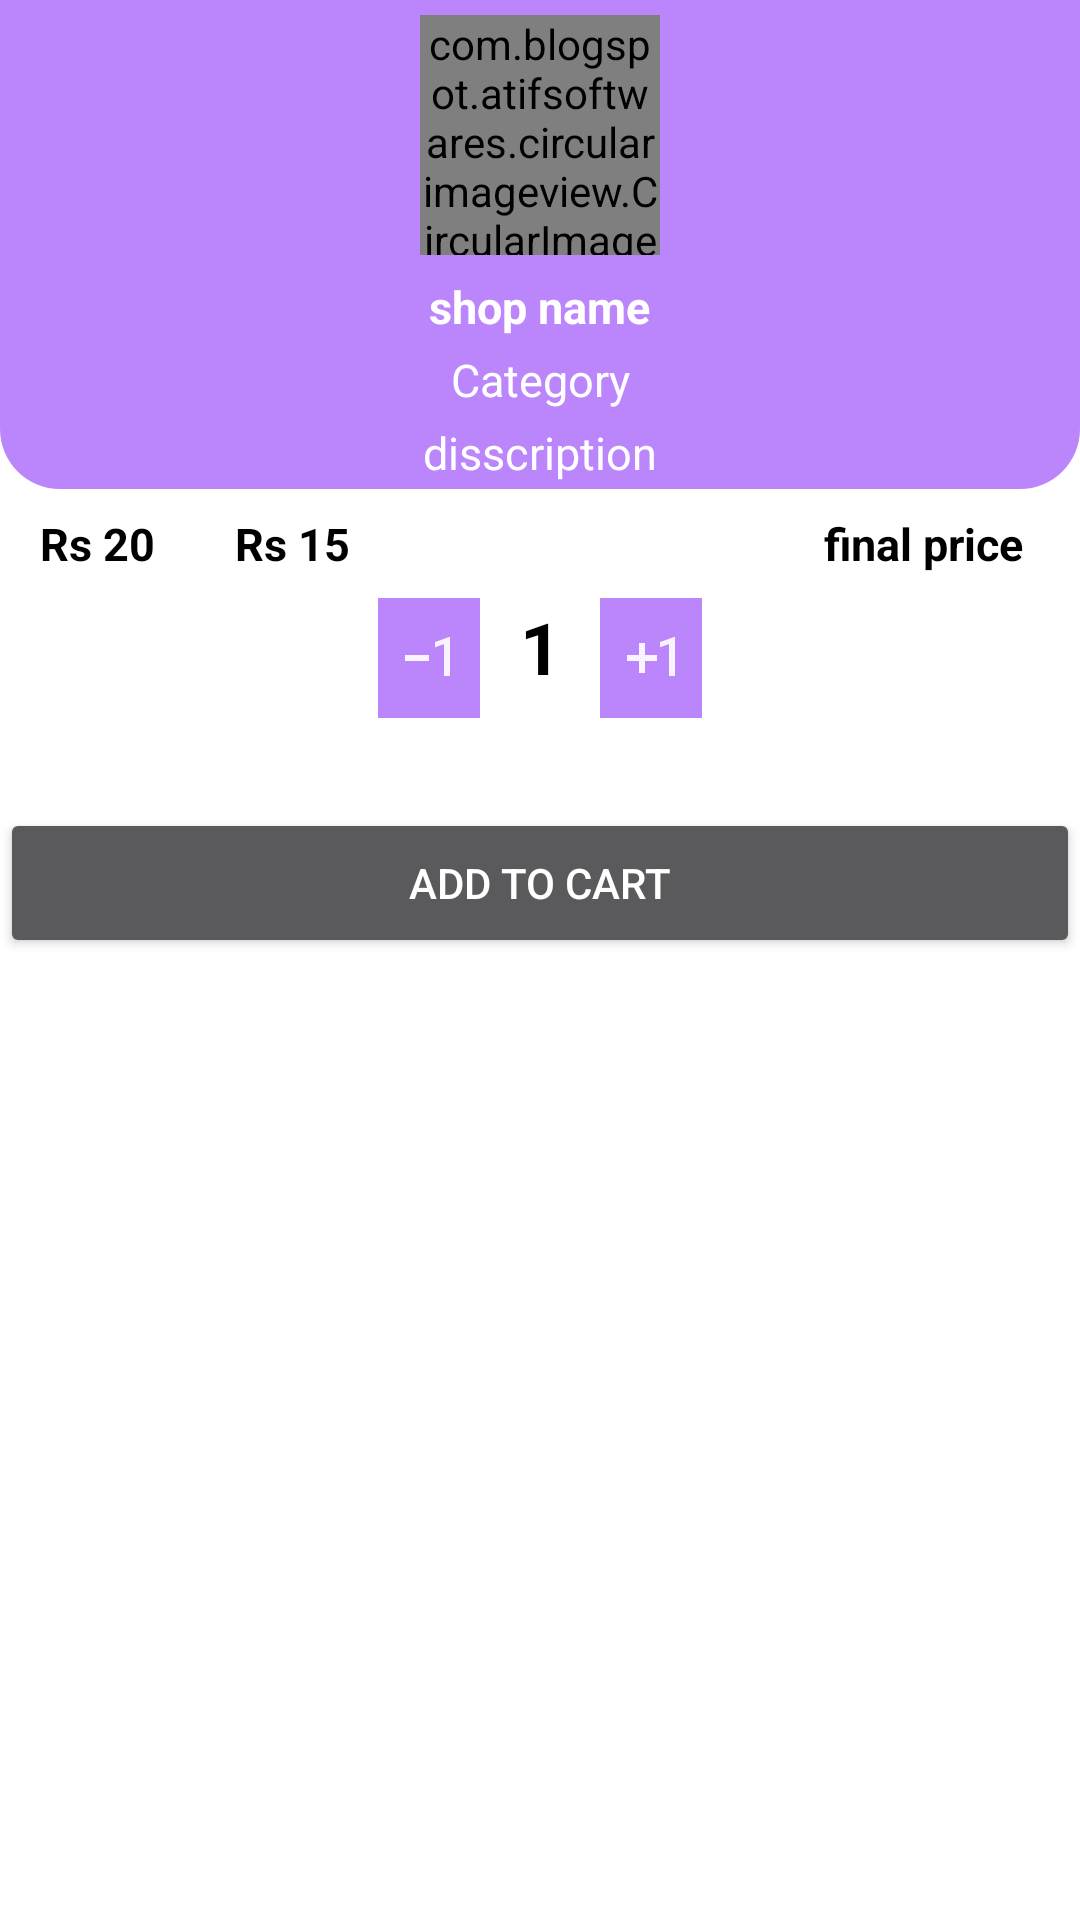

Icon click points for this 1080px x 1920px phone screenshot, format (x=x, y=y):
exposure neg: (x=429, y=658)
exposure plus: (x=651, y=658)
